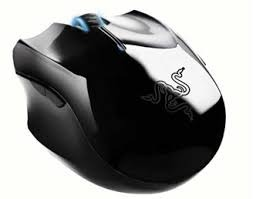mouse: (12, 11, 229, 196)
